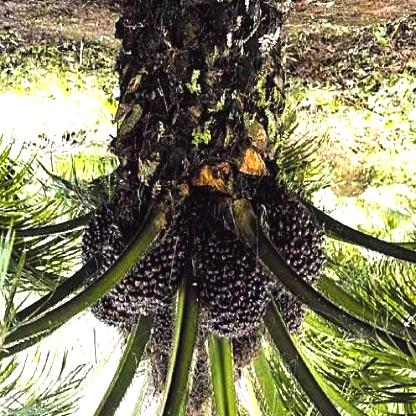palm-oil: (190, 222, 271, 340), (105, 210, 180, 314), (260, 204, 330, 290), (80, 200, 128, 278), (274, 292, 307, 338), (226, 335, 264, 371), (90, 301, 131, 331), (153, 316, 174, 347)
